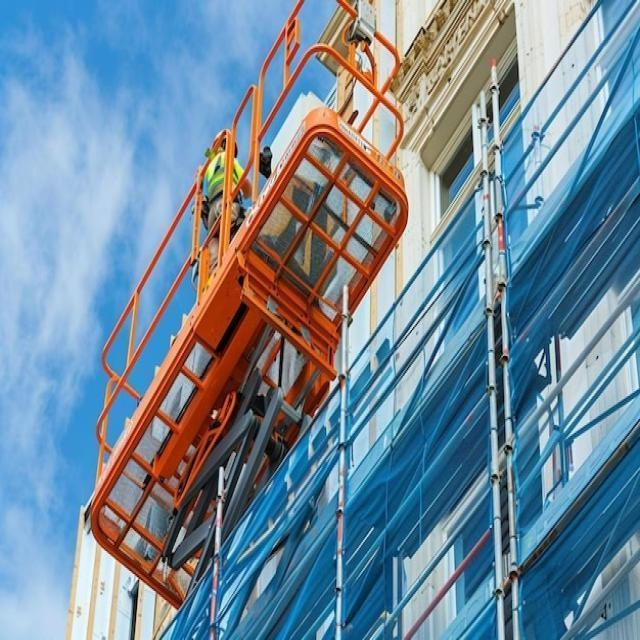Arnes_seguridad: (205, 191, 245, 238)
